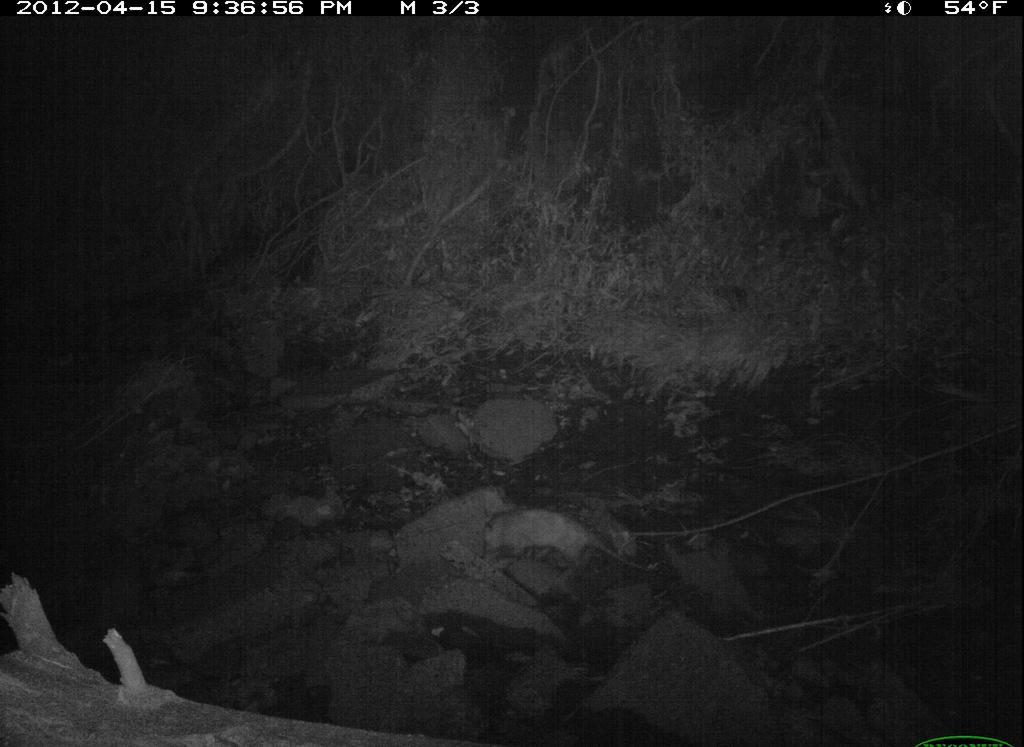opossum: (484, 507, 653, 582)
